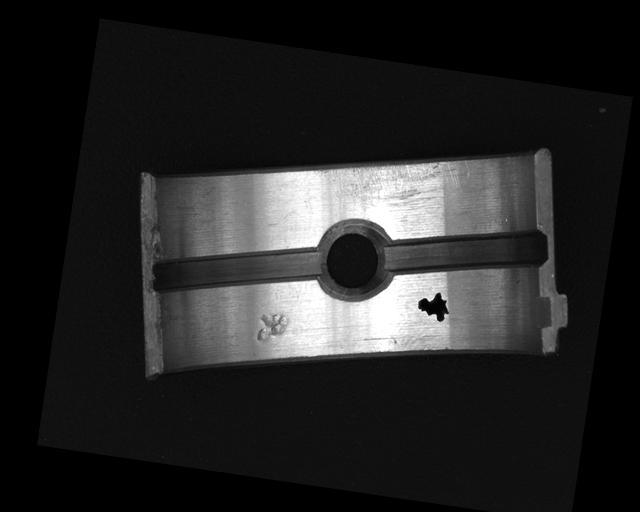blot: (414, 289, 454, 323)
bruise: (254, 310, 291, 347)
gap: (149, 223, 325, 315), (379, 209, 551, 293)
hole: (311, 214, 398, 301)
scratch: (316, 137, 473, 226)
